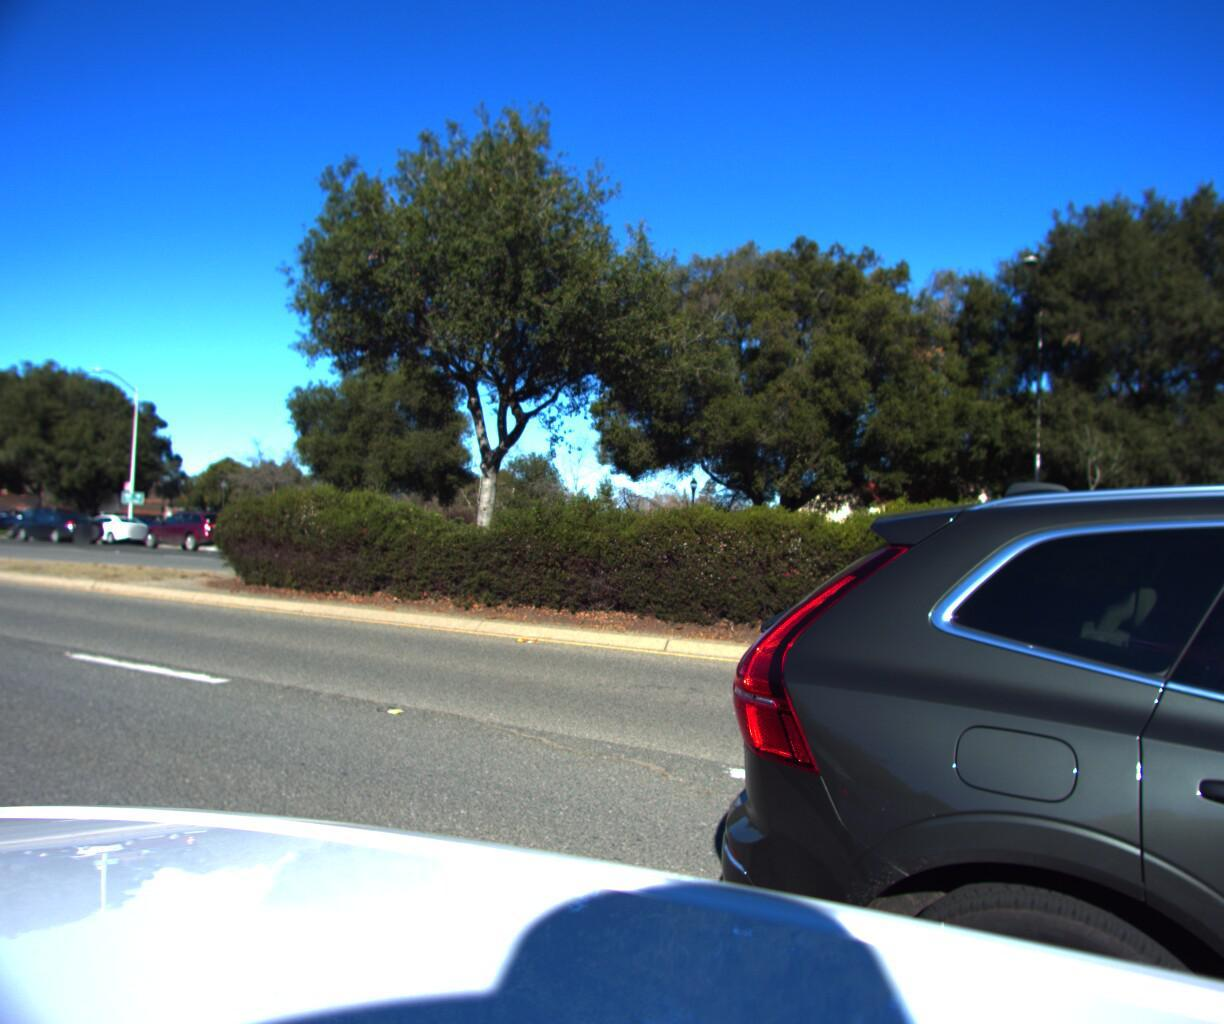car: (132, 508, 249, 556), (7, 513, 110, 549), (65, 516, 157, 550), (5, 509, 86, 545)
